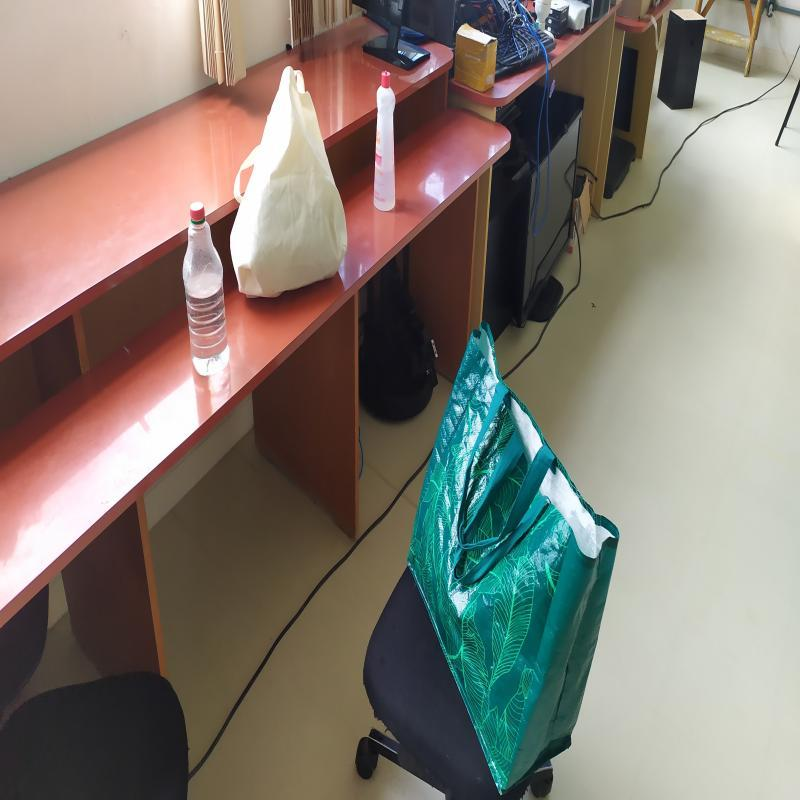Bag: (407, 327, 620, 795), (230, 66, 348, 304)
